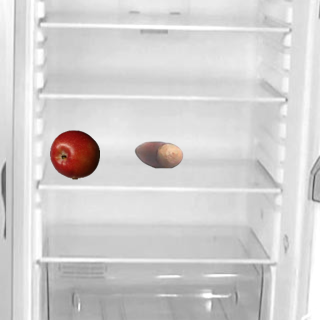Apple Braeburn: (49, 129, 99, 179)
Hazelnut: (133, 129, 183, 179)
